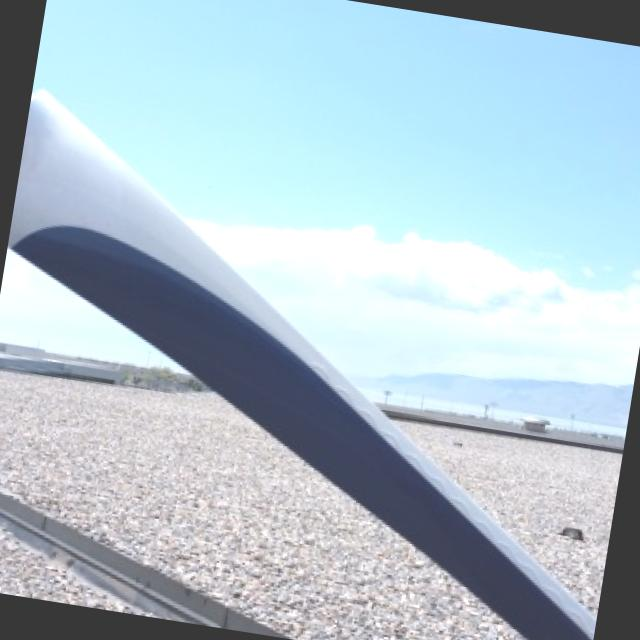healthy: (8, 91, 594, 640)
